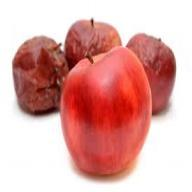apple: (58, 46, 153, 177), (127, 32, 180, 116), (11, 36, 64, 116), (62, 17, 123, 82)
